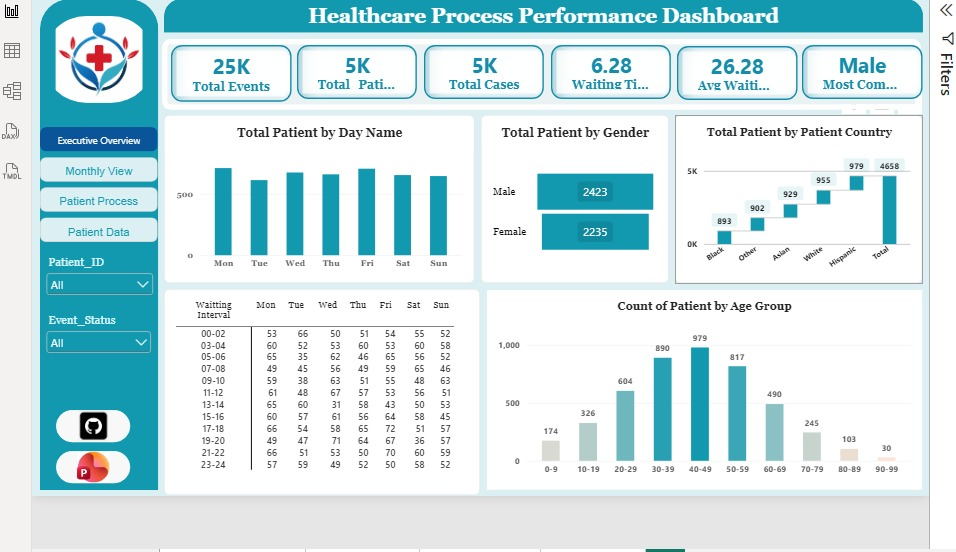

The page's visual inventory and layout, read from the dashboard file:
{"tool":"powerbi","page":{"name":"Executive Overview","canvas":[1280,720],"ordinal":0},"visuals":[{"type":"shape","box":[10.9,10.9,168.9,700.9],"z":0},{"type":"image","box":[15.7,35,159.3,124.3],"z":1000},{"type":"shape","box":[188.2,10.9,1083.4,48.3],"z":2000},{"type":"slicer","fields":{"Values":["mart_case_summary.Patient_ID"]},"box":[15.7,376.4,161.7,61.5],"z":3000},{"type":"slicer","fields":{"Values":["mart_case_summary.Event_Status_Summary"]},"box":[15.7,459.7,159.3,61.5],"z":4000},{"type":"columnChart","title":"Count of Patient by Age Group","fields":{"Category":["mart_case_summary.Age_Group"],"Y":["CountNonNull(mart_case_summary.Patient_ID)"]},"box":[649.1,427.1,621.3,284.7],"z":5000},{"type":"funnel","title":"Total Patient by Gender","fields":{"Category":["mart_case_summary.Patient_Gender"],"Y":["mart_case_summary.Total_Patient"]},"box":[640.6,177.3,267.8,240.1],"z":6000},{"type":"waterfallChart","title":"Total Patient by Patient Country","fields":{"Category":["mart_case_summary.Patient_Race"],"Y":["mart_case_summary.Total_Patient"]},"box":[918.1,177.3,353.5,240.1],"z":7000},{"type":"pageNavigator","box":[10.9,194.2,168.9,165.3],"z":8000},{"type":"pivotTable","fields":{"Columns":["Date table.Day Name"],"Rows":["mart_case_summary.Waitting Interval"],"Values":["mart_case_summary.Total_Patient"]},"box":[188.2,425.9,451.2,294.4],"z":9000},{"type":"columnChart","title":"Total Patient by Day Name","fields":{"Category":["Date table.Day Name"],"Y":["mart_case_summary.Total_Patient"]},"box":[188.2,177.3,442.8,240.1],"z":10000},{"type":"cardVisual","fields":{"Data":["mart_case_summary.Total_Patient"]},"box":[370.5,79,171.6,75.1],"z":11000},{"type":"cardVisual","fields":{"Data":["'measures'.Avg Waiting Time"]},"box":[908.2,80.4,171.6,75.1],"z":12000},{"type":"cardVisual","fields":{"Data":["'measures'.Most Common Gender"]},"box":[1081.6,80.4,171.6,75.1],"z":13000},{"type":"cardVisual","fields":{"Data":["'measures'.Waiting Time Gap"]},"box":[735.7,80.8,171.6,75.1],"z":14000},{"type":"cardVisual","fields":{"Data":["'measures'.Total Cases"]},"box":[554.8,80.8,171.6,75.1],"z":15000},{"type":"cardVisual","fields":{"Data":["'measures'.Total Events"]},"box":[198.4,79,171.6,75.1],"z":16000},{"type":"shape","box":[185.8,68.4,1082.6,100.6],"z":17000},{"type":"image","title":"Github","box":[33.8,656.3,106.2,45.8],"z":18000},{"type":"image","title":"Github","box":[33.8,598.4,106.2,45.8],"z":18001},{"type":"cardVisual","fields":{"Data":["mart_case_summary.Total_Patient"]},"box":[370.4,79.6,171.3,77.2],"z":18002},{"type":"cardVisual","fields":{"Data":["'measures'.Avg Waiting Time"]},"box":[918.1,82,171.3,77.2],"z":18003},{"type":"cardVisual","fields":{"Data":["'measures'.Most Common Gender"]},"box":[1095.4,83.2,168.9,77.2],"z":18004},{"type":"cardVisual","fields":{"Data":["'measures'.Waiting Time Gap"]},"box":[737.1,83.2,171.3,77.2],"z":18005},{"type":"cardVisual","fields":{"Data":["'measures'.Total Cases"]},"box":[553.8,82,171.3,77.2],"z":18006},{"type":"cardVisual","fields":{"Data":["'measures'.Total Events"]},"box":[188.2,78.4,171.3,82],"z":18007}]}

Visuals, with their boxes on the page's 1280x720 design canvas (x1, y1, x2, y2). These are canvas units, not pixel positions in the 956x552 screenshot, which may show the page scaled, cropped or inside an application window:
shape: [x1=11, y1=11, x2=180, y2=712]
image: [x1=16, y1=35, x2=175, y2=159]
shape: [x1=188, y1=11, x2=1272, y2=59]
slicer - mart_case_summary.Patient_ID: [x1=16, y1=376, x2=177, y2=438]
slicer - mart_case_summary.Event_Status_Summary: [x1=16, y1=460, x2=175, y2=521]
"Count of Patient by Age Group" columnChart: [x1=649, y1=427, x2=1270, y2=712]
"Total Patient by Gender" funnel: [x1=641, y1=177, x2=908, y2=417]
"Total Patient by Patient Country" waterfallChart: [x1=918, y1=177, x2=1272, y2=417]
pageNavigator: [x1=11, y1=194, x2=180, y2=360]
pivotTable - Date table.Day Name x mart_case_summary.Waitting Interval: [x1=188, y1=426, x2=639, y2=720]
"Total Patient by Day Name" columnChart: [x1=188, y1=177, x2=631, y2=417]
cardVisual - mart_case_summary.Total_Patient: [x1=370, y1=79, x2=542, y2=154]
cardVisual - 'measures'.Avg Waiting Time: [x1=908, y1=80, x2=1080, y2=156]
cardVisual - 'measures'.Most Common Gender: [x1=1082, y1=80, x2=1253, y2=156]
cardVisual - 'measures'.Waiting Time Gap: [x1=736, y1=81, x2=907, y2=156]
cardVisual - 'measures'.Total Cases: [x1=555, y1=81, x2=726, y2=156]
cardVisual - 'measures'.Total Events: [x1=198, y1=79, x2=370, y2=154]
shape: [x1=186, y1=68, x2=1268, y2=169]
"Github" image: [x1=34, y1=656, x2=140, y2=702]
"Github" image: [x1=34, y1=598, x2=140, y2=644]
cardVisual - mart_case_summary.Total_Patient: [x1=370, y1=80, x2=542, y2=157]
cardVisual - 'measures'.Avg Waiting Time: [x1=918, y1=82, x2=1089, y2=159]
cardVisual - 'measures'.Most Common Gender: [x1=1095, y1=83, x2=1264, y2=160]
cardVisual - 'measures'.Waiting Time Gap: [x1=737, y1=83, x2=908, y2=160]
cardVisual - 'measures'.Total Cases: [x1=554, y1=82, x2=725, y2=159]
cardVisual - 'measures'.Total Events: [x1=188, y1=78, x2=360, y2=160]
